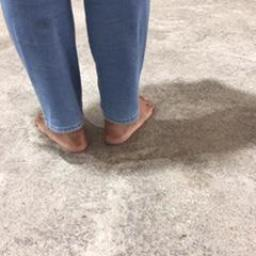Back View -Both Feet-: (27, 81, 159, 164)
